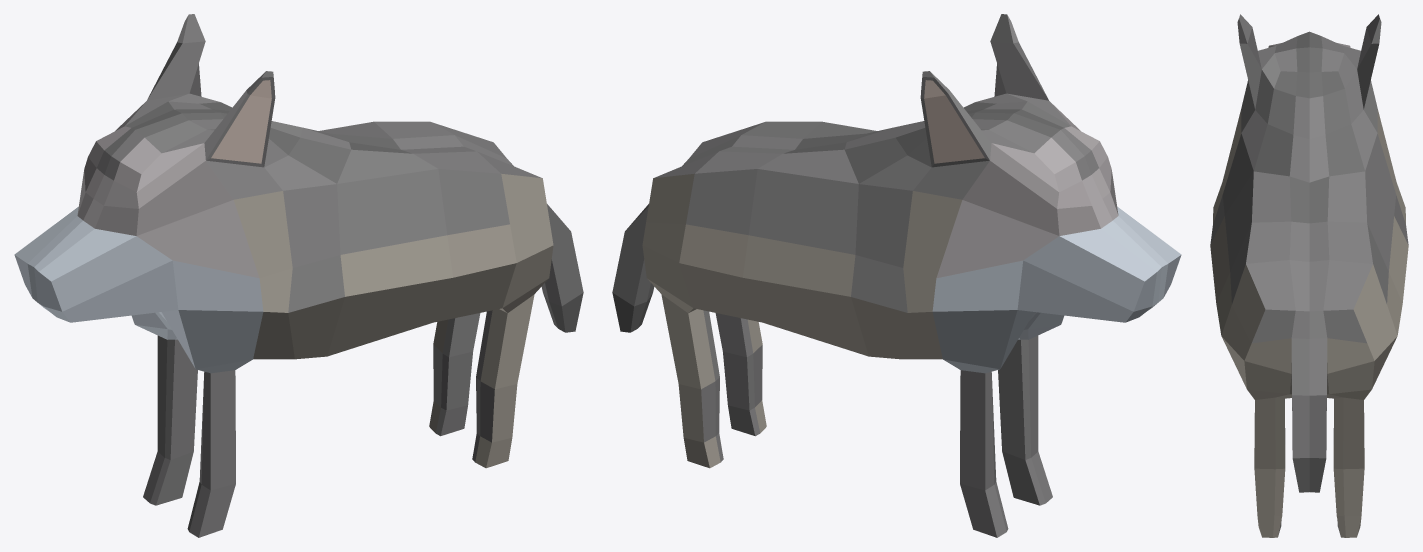
Rendered from wolf.glb.
The picture shows the model from 3 angles, left to right: view 1: azimuth 30°, elevation 25°; view 2: azimuth 150°, elevation 25°; view 3: azimuth 270°, elevation 25°; orthographic projection. The views are drawn at different scales.
Parts seen in each view (by area): view 1: Cube; view 2: Cube; view 3: Cube.
Part boxes in pixels (left/top/right/bottom): Cube: left=14, top=14, right=583, bottom=537; Cube: left=612, top=14, right=1181, bottom=537; Cube: left=1210, top=14, right=1408, bottom=537.
Bounding box in the file's own units: 3.99 × 3.24 × 1.41.
